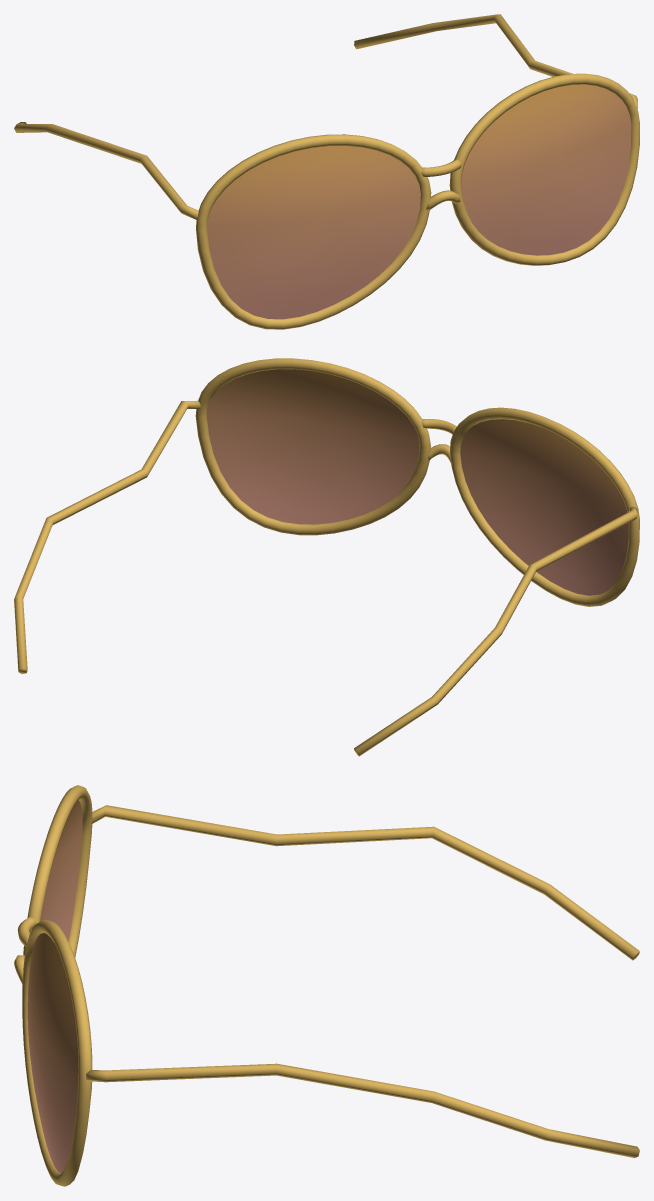
The model's file is aviators.glb.
3 views of the same model, one above another, from view 1: azimuth 30°, elevation 25°; view 2: azimuth 150°, elevation 25°; view 3: azimuth 270°, elevation 25° (orthographic). The views are drawn at different scales.
Visible parts, largest first — view 1: aviators; view 2: aviators; view 3: aviators.
Part boxes in pixels (box(x1,y1,x2,y2)): aviators: box(14, 14, 639, 329); aviators: box(14, 358, 639, 756); aviators: box(14, 785, 639, 1186).
Bounding box in the file's own units: 0.3837 × 0.1459 × 0.3757.
